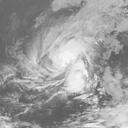cyclone: (28, 23, 93, 96)
